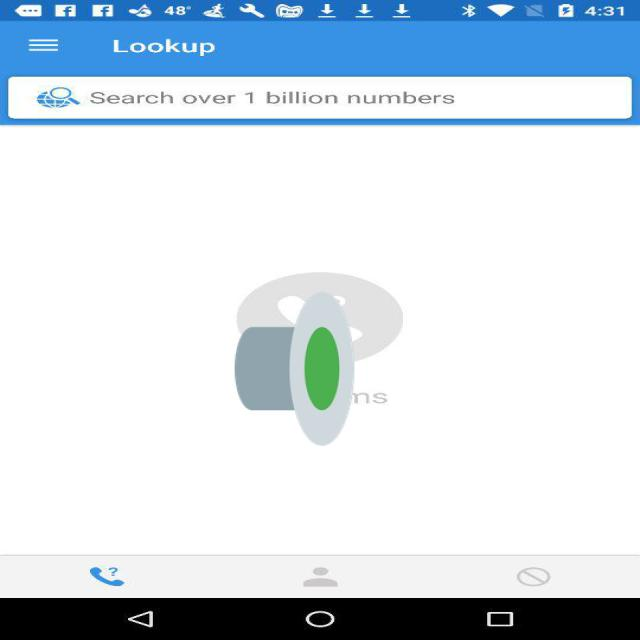social proof: (235, 226, 354, 511)
